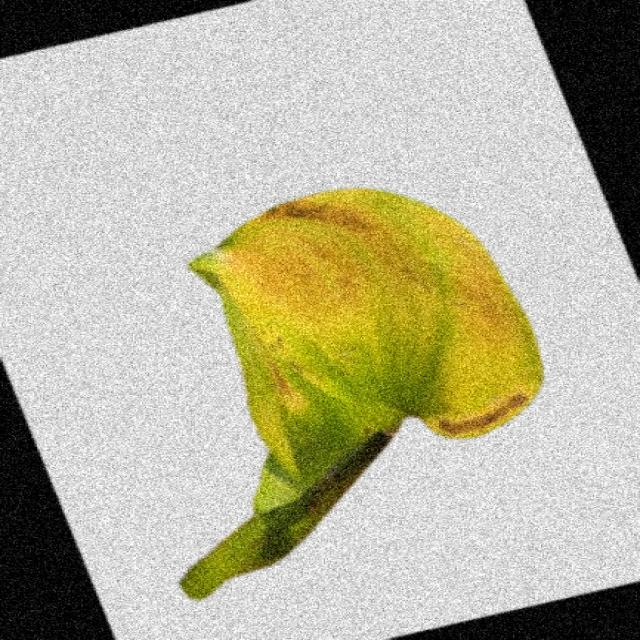daun berpenyakit kuning: (182, 190, 542, 598)
